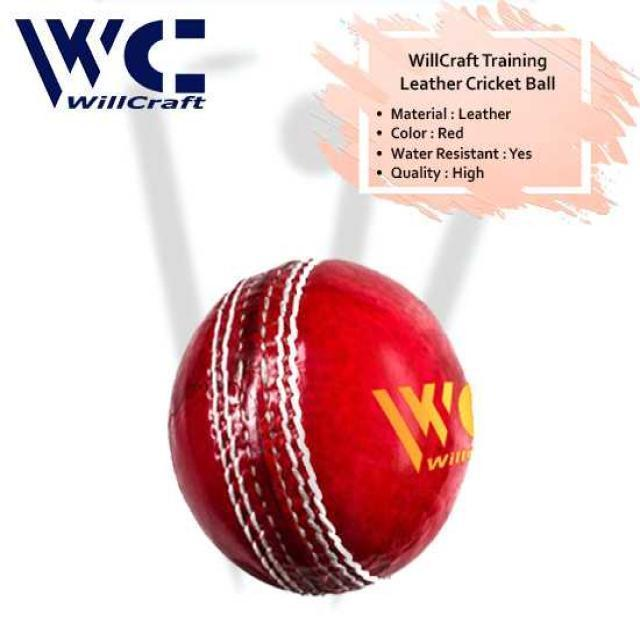cricket ball: (168, 256, 474, 599)
